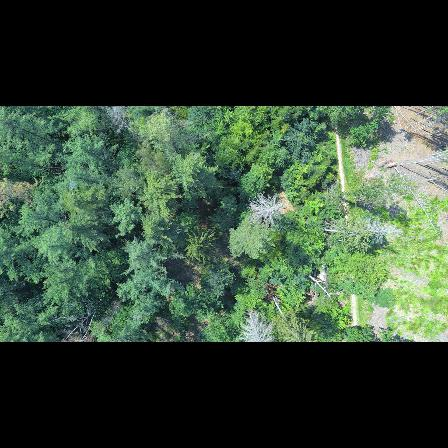Dead: (245, 191, 289, 229), (236, 307, 277, 342), (364, 214, 405, 242), (98, 106, 135, 136)
